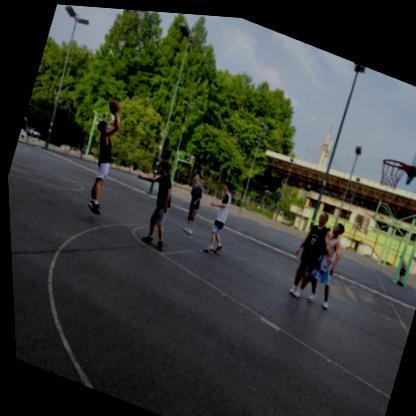basketball: (106, 97, 121, 114)
